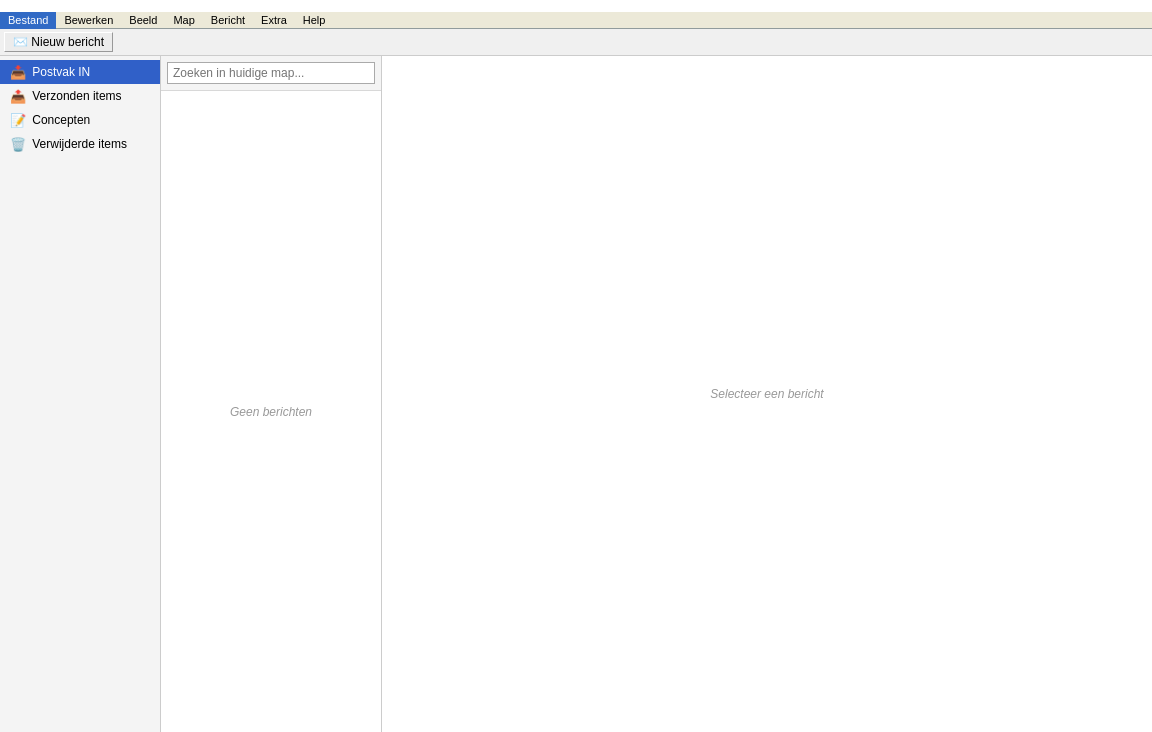
Test: MailPane › shows only forward and delete actions for sent mail
This screenshot has width=1152, height=732.
Click the text "Verzonden items": point(77, 96) left=32, top=89, right=122, bottom=103
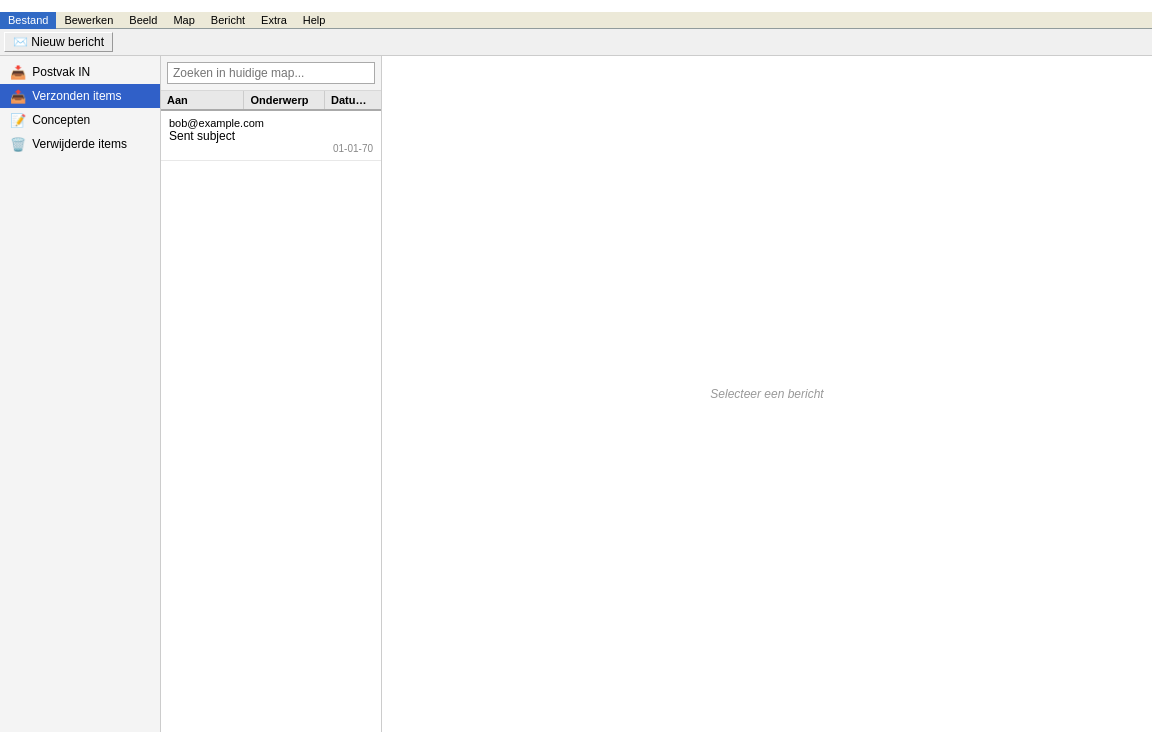
Click the text "Sent subject": point(202, 136) left=169, top=129, right=235, bottom=143
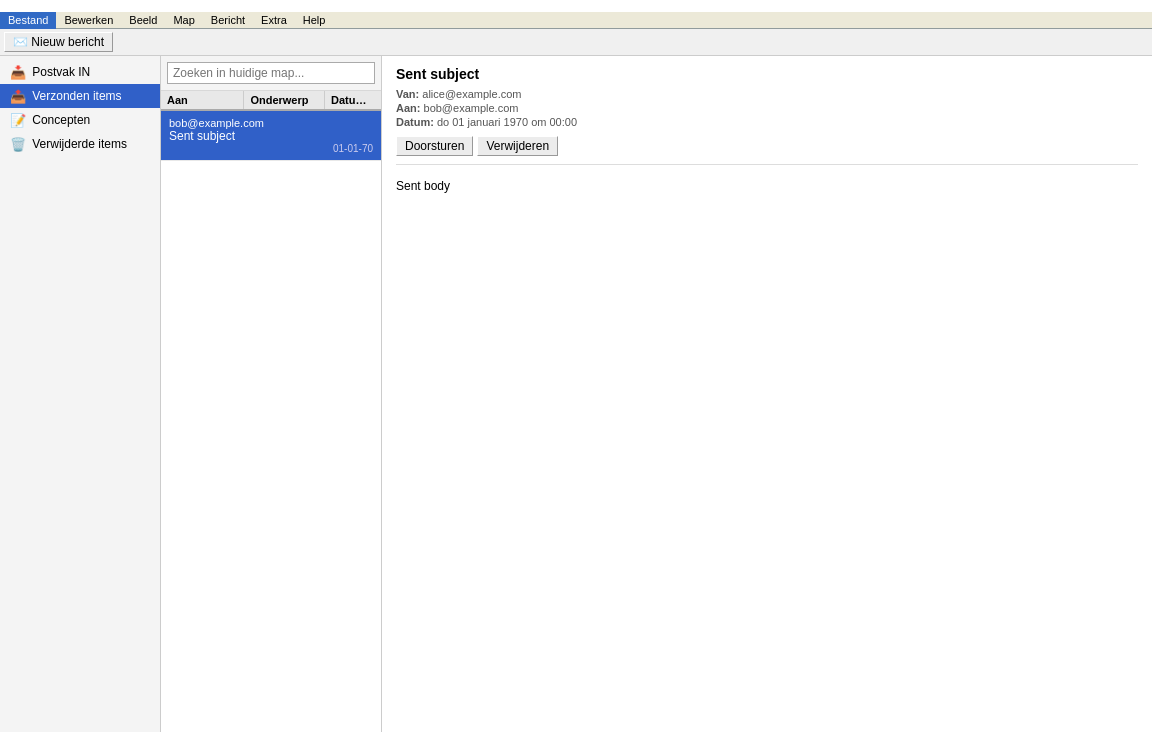
Now the button "Doorsturen" is shown, box left=396, top=136, right=473, bottom=156
Now the button "Verwijderen" is shown, box left=477, top=136, right=558, bottom=156
